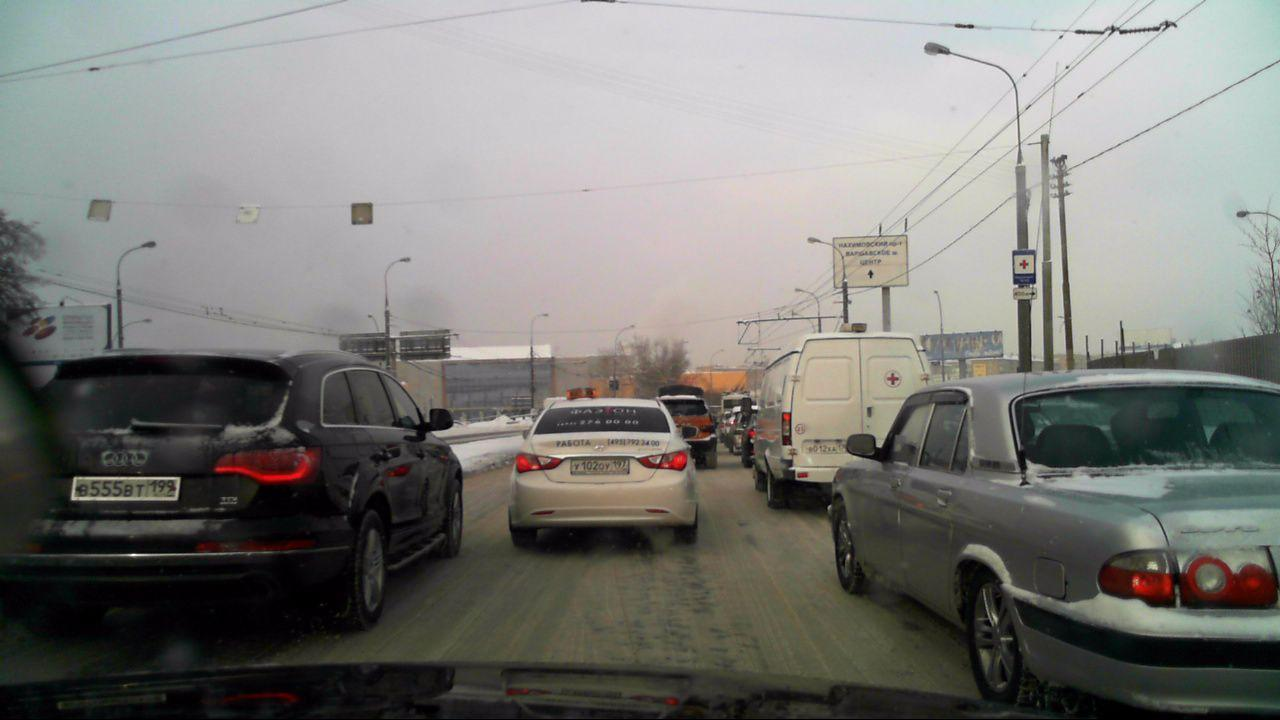6_10_1: (833, 233, 909, 289)
7_1: (1013, 249, 1037, 284)
8_1_4: (1012, 286, 1039, 300)
